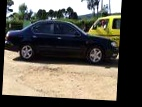car: (4, 17, 120, 66), (89, 13, 121, 38)
